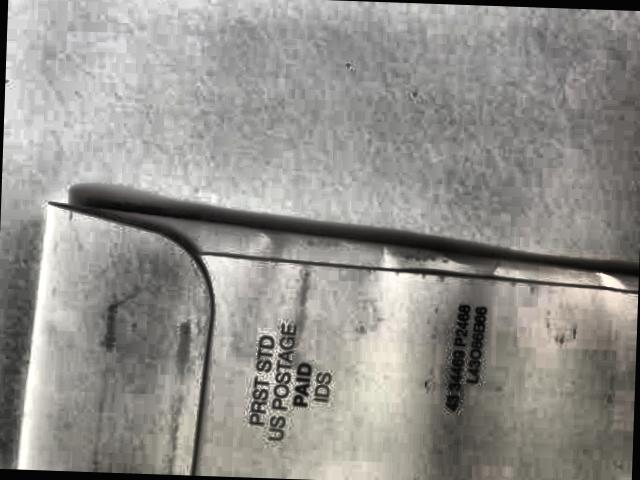Paper: (0, 195, 640, 480)
